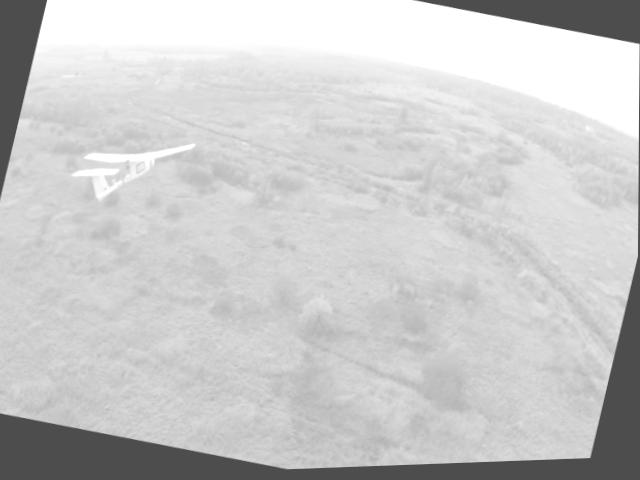hedef: (64, 104, 207, 244)
